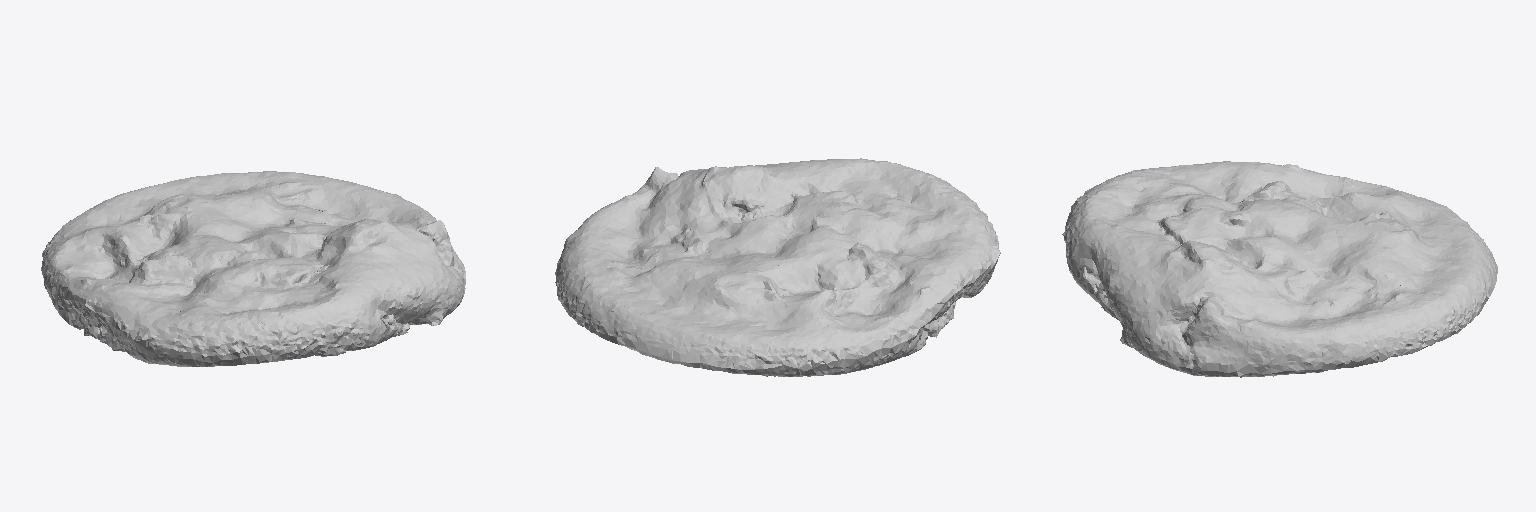
Rendered from Cookie.obj.
3 views of the same model, side by side, from view 1: azimuth 30°, elevation 25°; view 2: azimuth 150°, elevation 25°; view 3: azimuth 270°, elevation 25° (orthographic).
Parts seen in each view (by area): view 1: Cookie; view 2: Cookie; view 3: Cookie.
Boxes of the visible parts, x1,y1,x2,y2 form: Cookie: [41, 171, 465, 366]; Cookie: [555, 158, 1000, 376]; Cookie: [1062, 161, 1497, 377].
Bounding box in the file's own units: 2.64 × 0.5897 × 2.74.